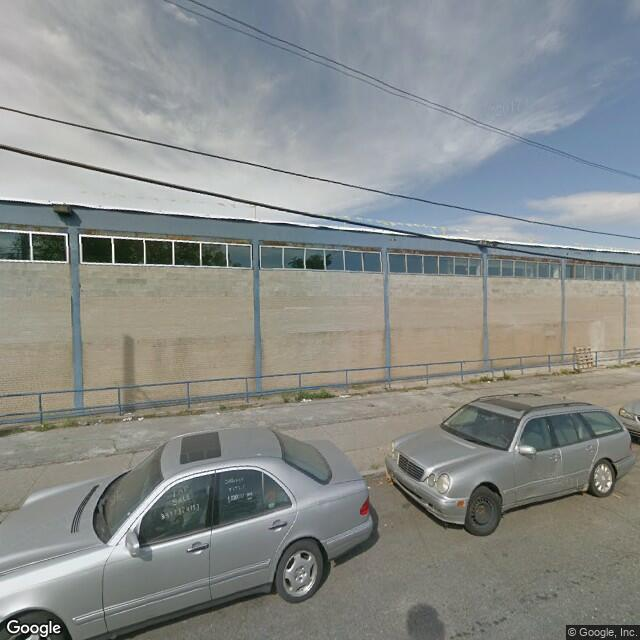litter: (300, 396, 311, 403), (338, 392, 355, 396), (138, 417, 146, 422), (123, 417, 130, 420)
